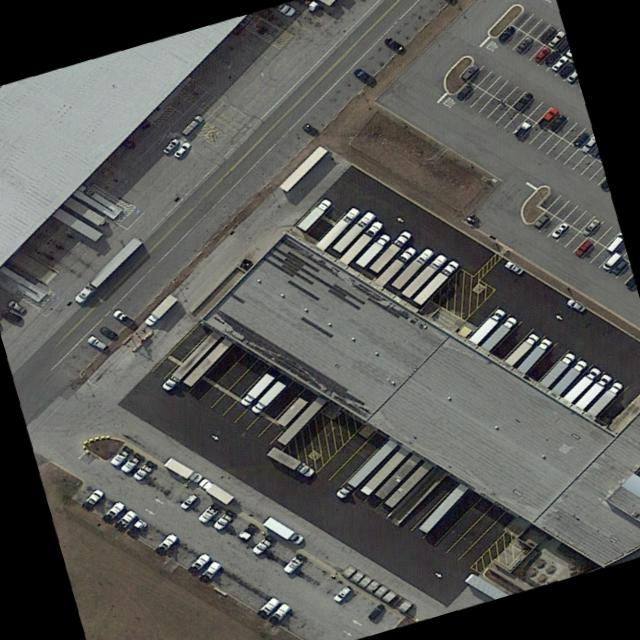large-vehicle: (69, 236, 142, 303), (333, 439, 397, 499), (157, 329, 221, 389), (398, 252, 447, 299), (337, 218, 382, 266), (411, 259, 459, 304), (310, 207, 358, 251), (388, 246, 433, 289), (367, 228, 411, 271), (371, 244, 417, 285), (330, 211, 374, 252), (464, 307, 505, 344), (264, 446, 312, 477), (584, 381, 623, 418), (477, 315, 517, 351), (258, 514, 305, 544), (290, 196, 330, 231), (499, 332, 538, 367), (561, 366, 600, 401), (572, 374, 610, 409), (538, 352, 574, 388), (550, 358, 586, 394), (513, 339, 549, 374), (236, 372, 274, 405), (351, 233, 387, 267), (250, 379, 286, 412), (195, 476, 234, 505), (141, 294, 176, 325), (161, 456, 201, 482), (365, 602, 383, 620)
small-vehicle: (176, 113, 205, 136), (349, 66, 376, 86), (571, 236, 595, 257), (509, 118, 533, 139), (535, 106, 558, 127), (110, 307, 135, 326), (83, 332, 108, 351), (380, 34, 405, 53), (330, 582, 352, 603), (599, 250, 622, 270), (169, 139, 192, 159), (176, 490, 199, 510), (547, 53, 569, 73), (297, 119, 320, 138), (495, 24, 518, 43), (579, 216, 601, 235), (536, 24, 558, 43), (511, 35, 533, 54), (510, 91, 532, 110), (0, 308, 24, 325), (548, 220, 569, 239), (96, 324, 117, 343), (158, 136, 180, 154), (531, 210, 553, 228), (453, 83, 474, 101), (530, 45, 551, 63), (544, 113, 565, 131), (459, 62, 479, 80), (545, 29, 565, 47), (569, 130, 590, 147), (501, 259, 523, 275), (563, 297, 586, 312), (556, 60, 575, 78), (609, 258, 629, 275), (4, 298, 26, 313), (541, 49, 559, 65)
